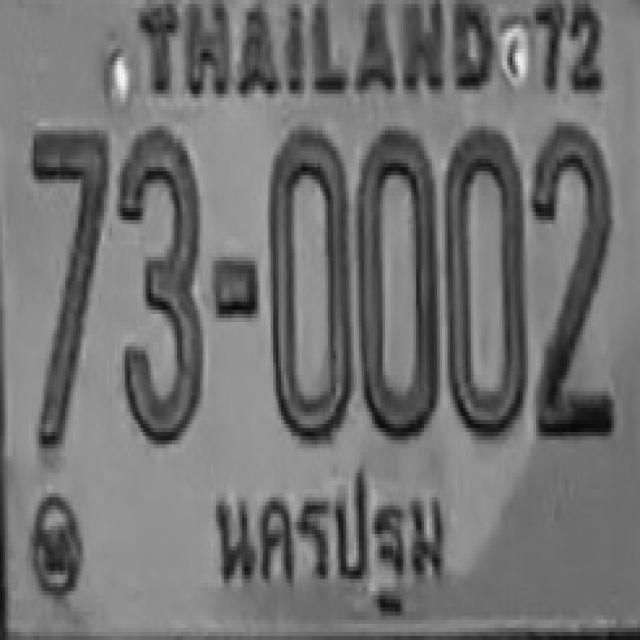0: (266, 127, 352, 440), (354, 127, 439, 440), (443, 124, 527, 438)
2: (531, 122, 614, 420), (533, 139, 614, 436)
3: (117, 122, 203, 444)
7: (29, 124, 109, 454)
NakhonPathom: (211, 467, 457, 620)
